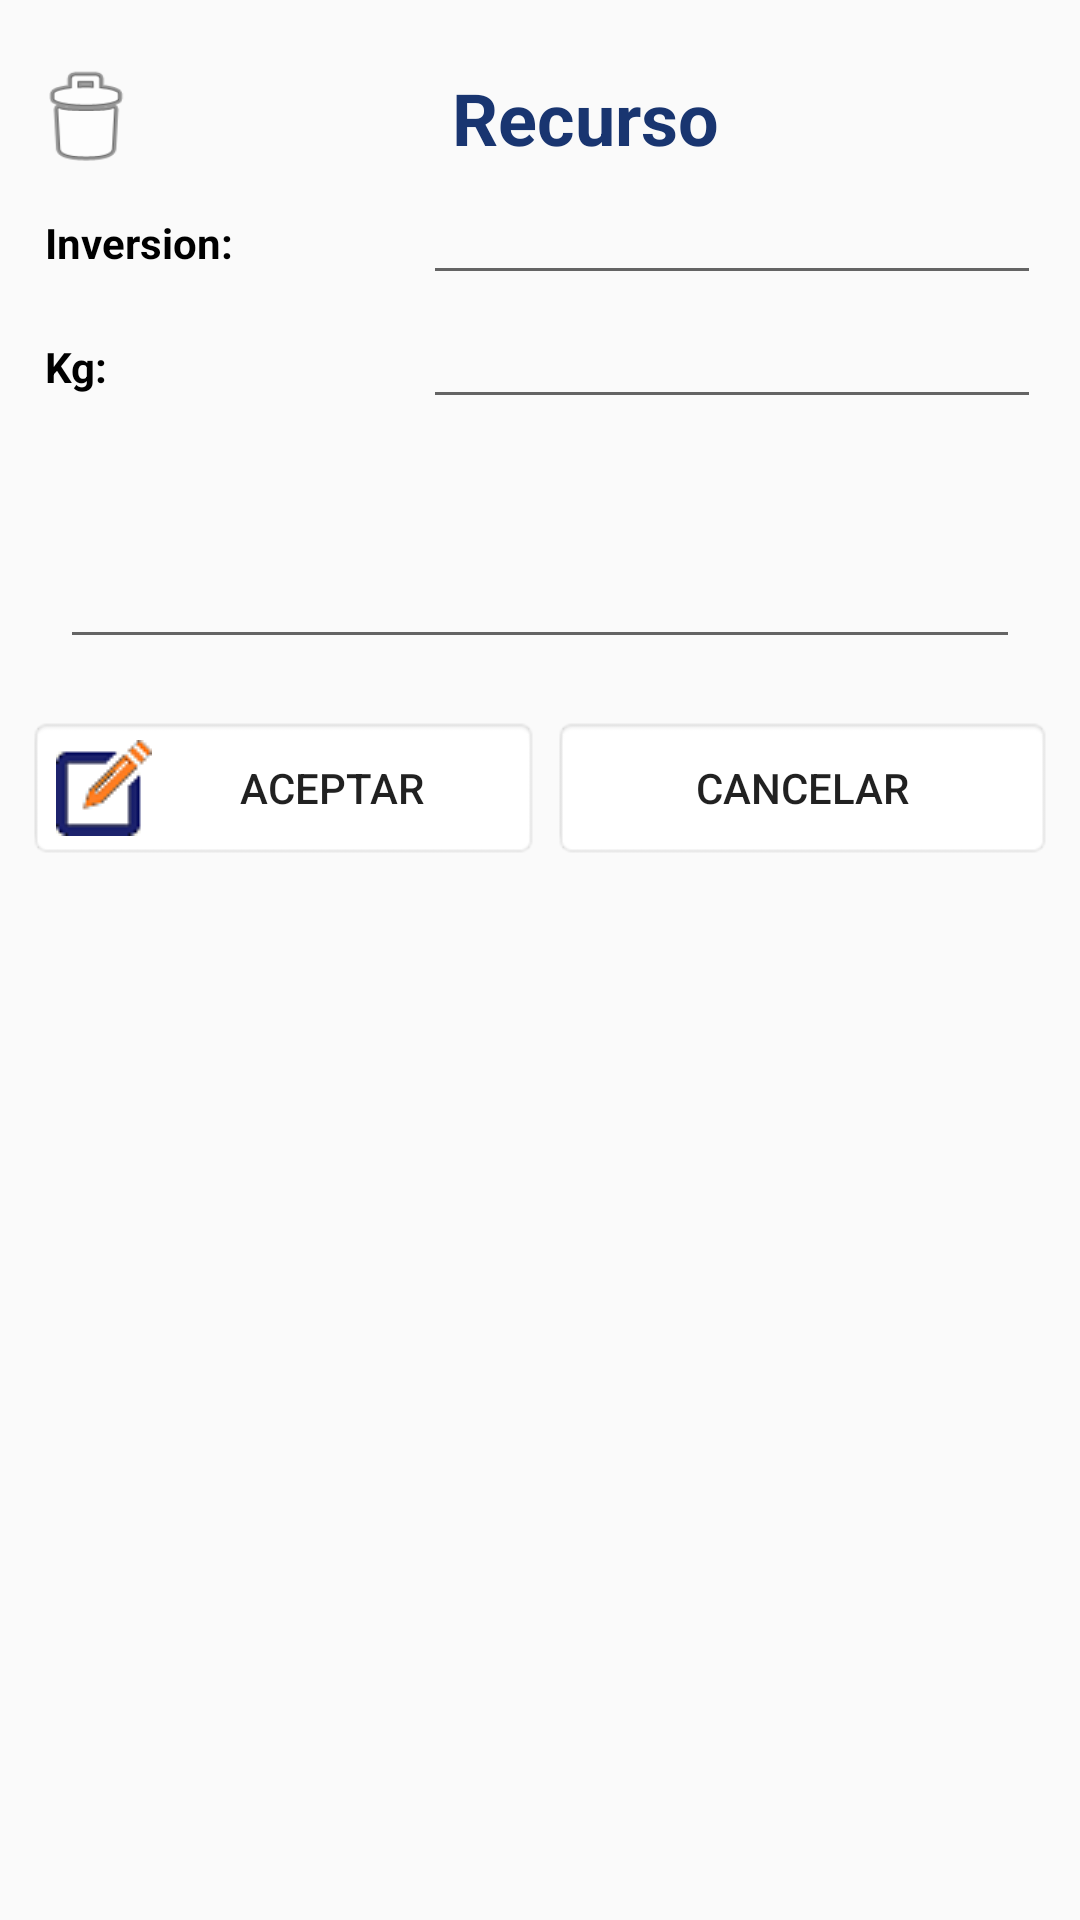

Icons on this 1080 x 1920 Android screen, each with the point to tap as point (x, y):
delete: point (86, 116)
